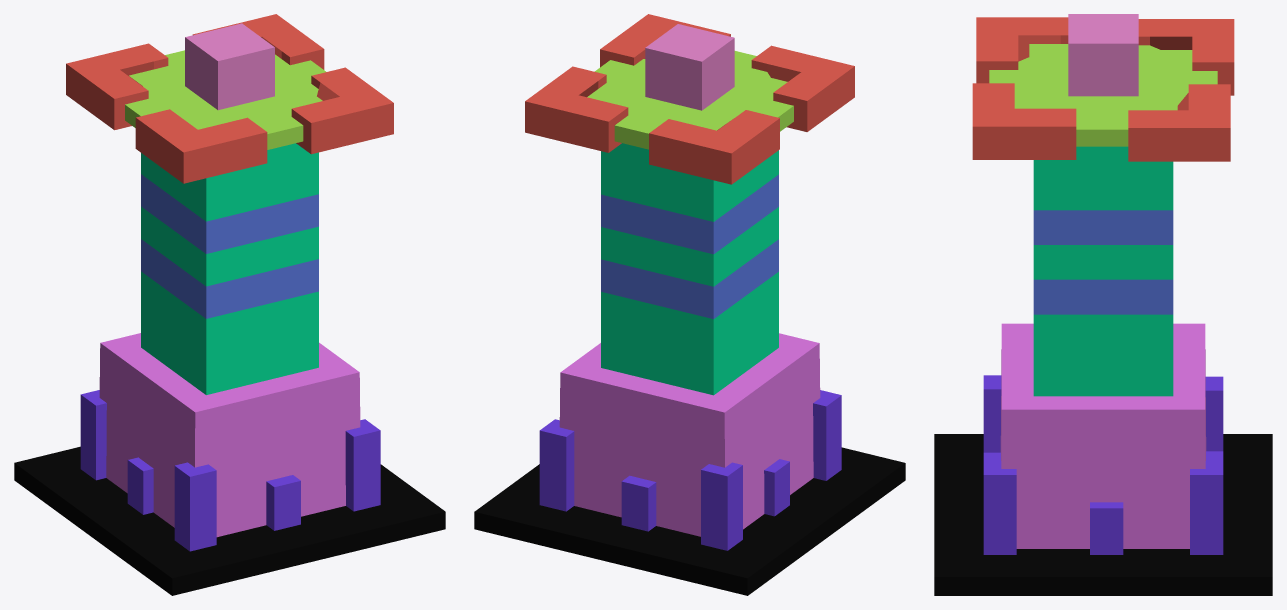
Rendered from turret_Lv2.fbx.
3 views of the same model, side by side, from view 1: azimuth 30°, elevation 25°; view 2: azimuth 150°, elevation 25°; view 3: azimuth 270°, elevation 25° (orthographic). The views are drawn at different scales.
Parts seen in each view (by area): view 1: Cube.004; view 2: Cube.004; view 3: Cube.004.
Part boxes in pixels (x1,y1,x2,y2): Cube.004: [14, 14, 445, 595]; Cube.004: [474, 14, 905, 595]; Cube.004: [934, 14, 1272, 595].
Bounding box in the file's own units: 86.51 × 140 × 86.51.
